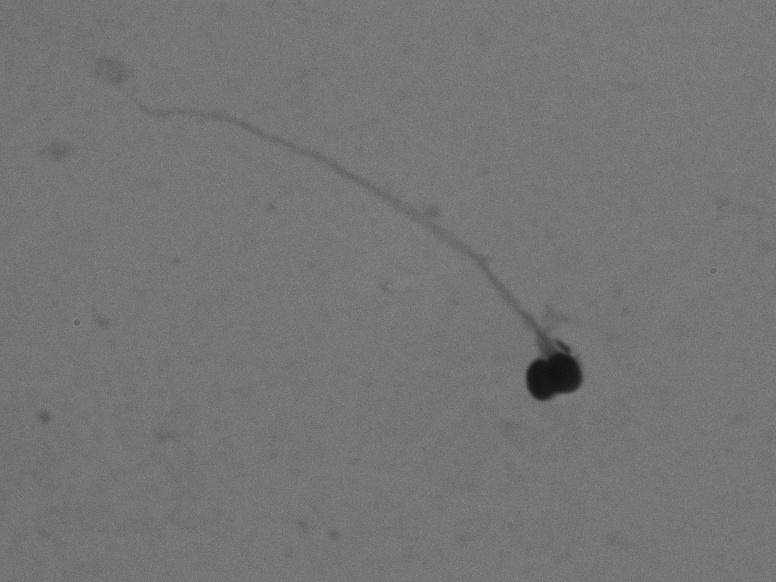Abnormal: (101, 68, 649, 418)
